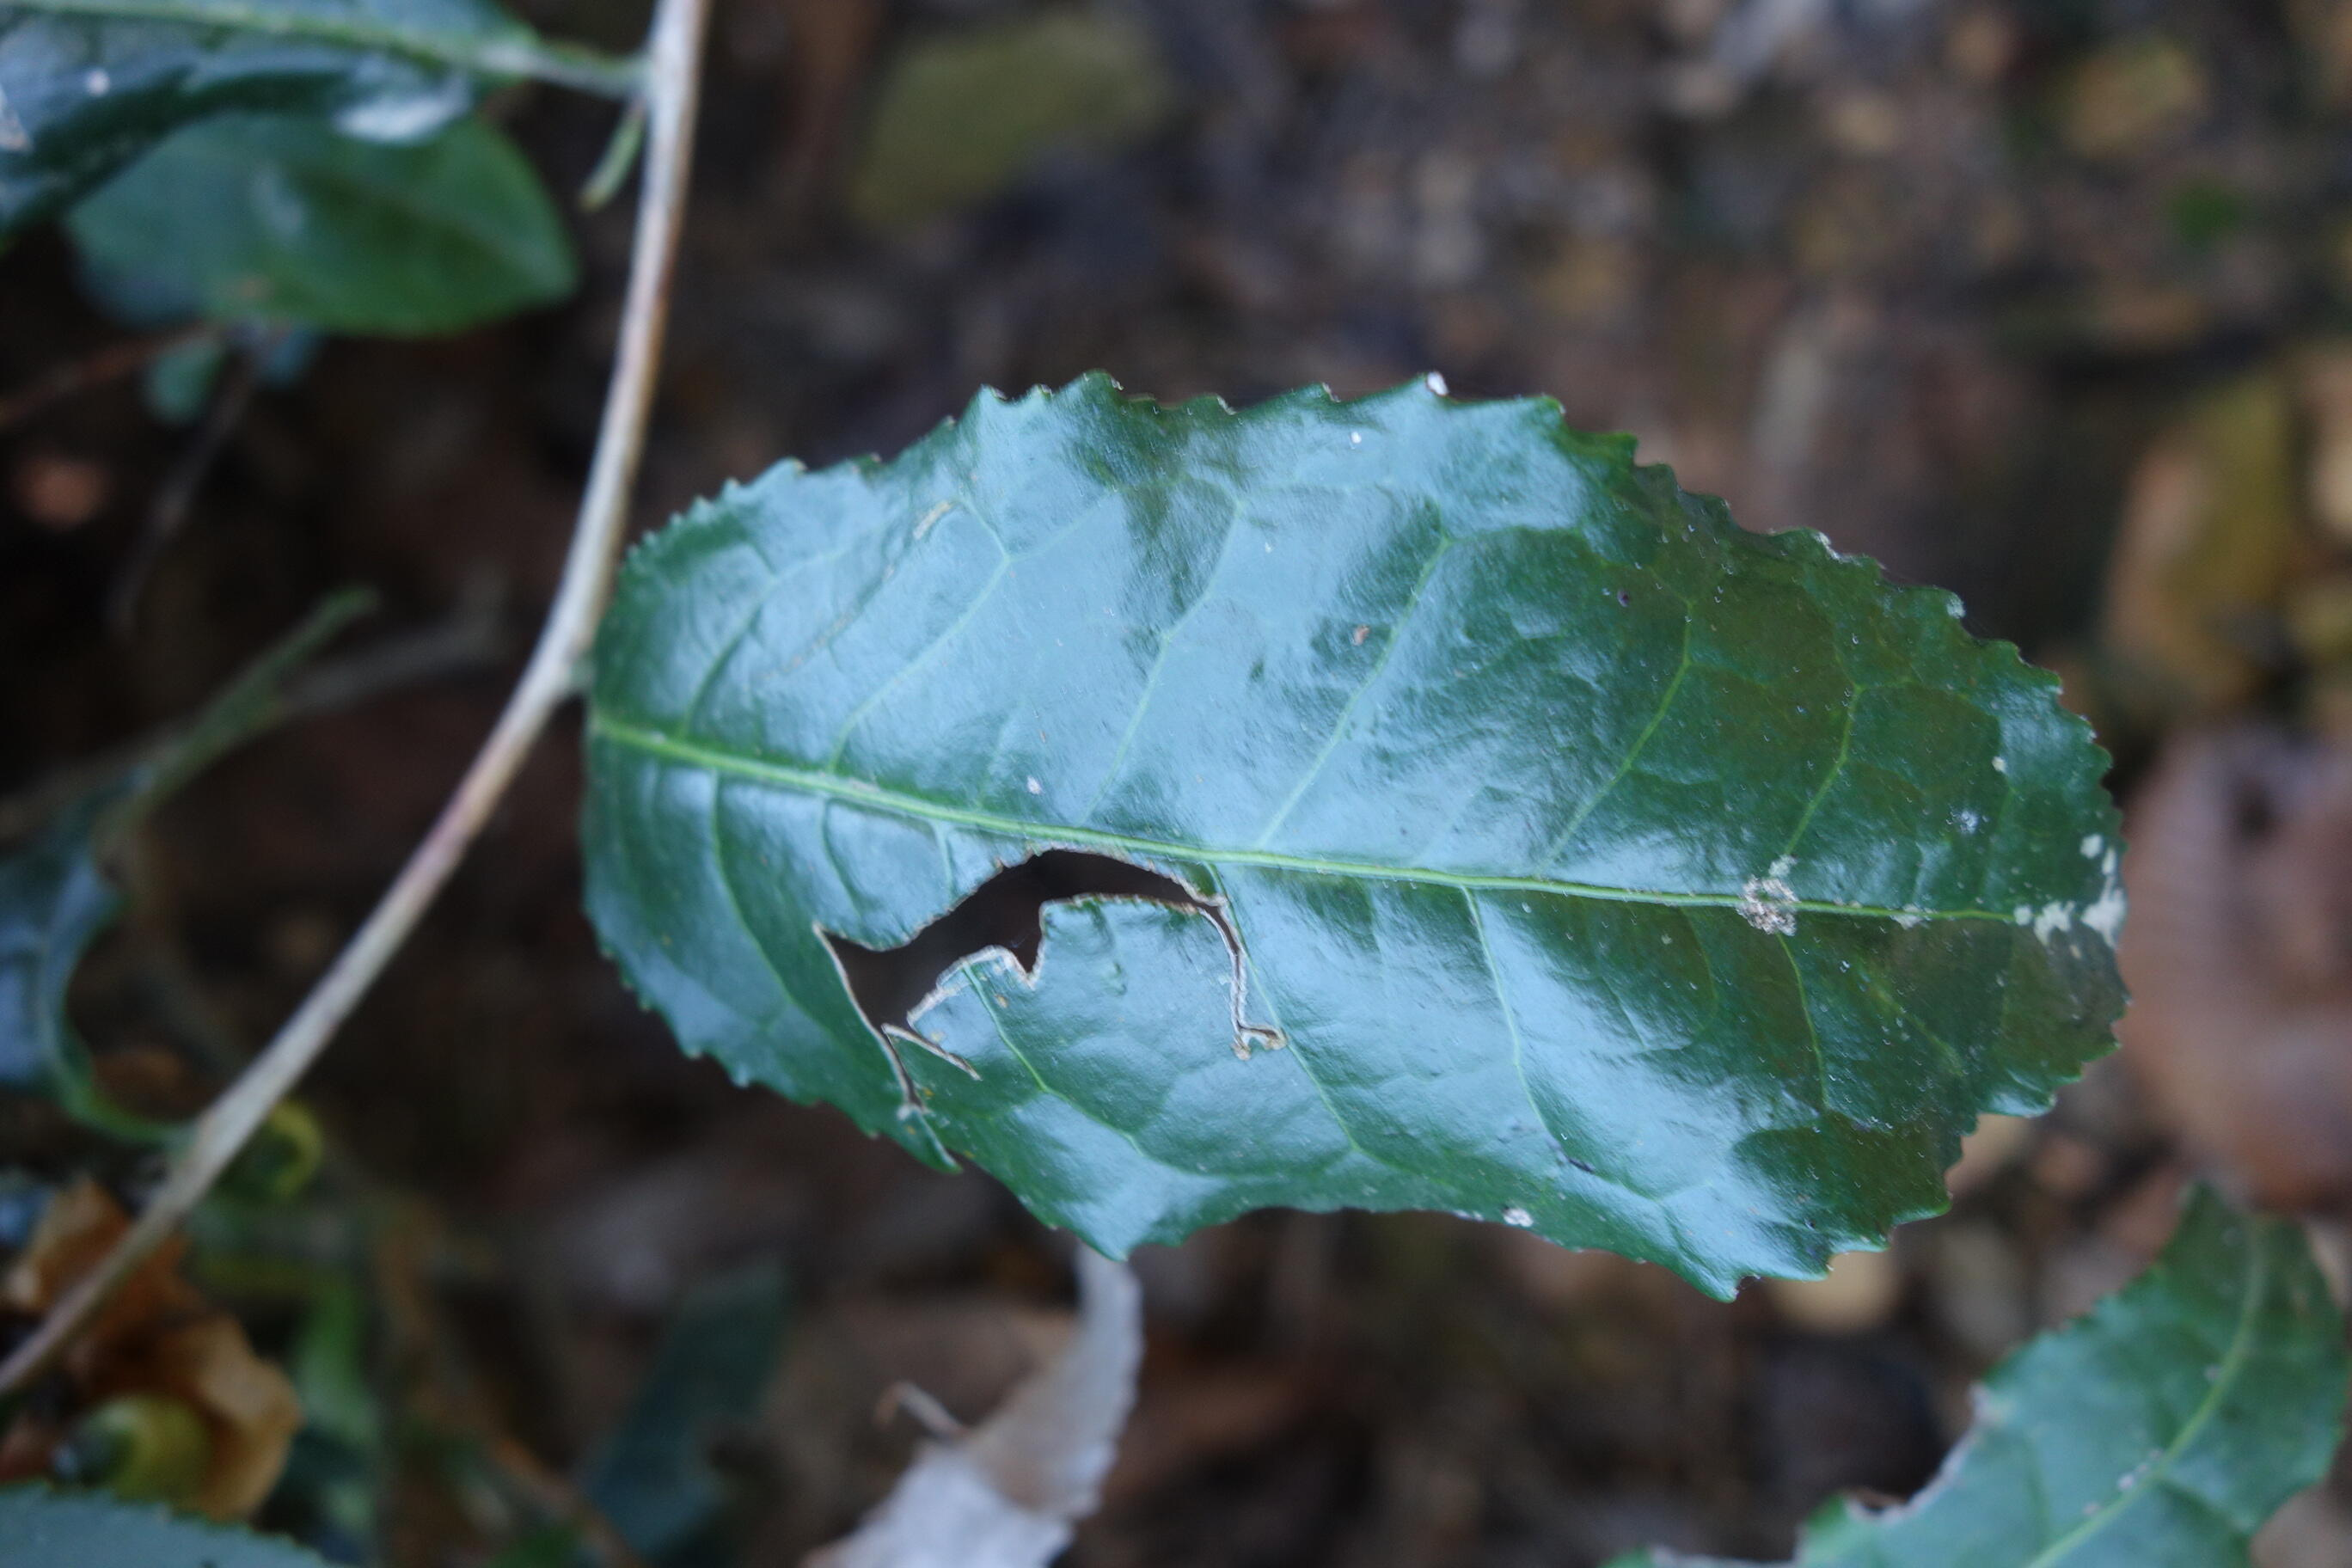chihuo_low: (577, 369, 2142, 1304)
